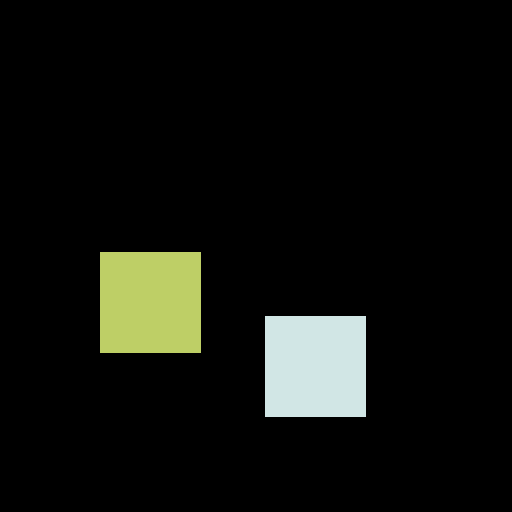square: (265, 316, 365, 416), (100, 252, 200, 352)
